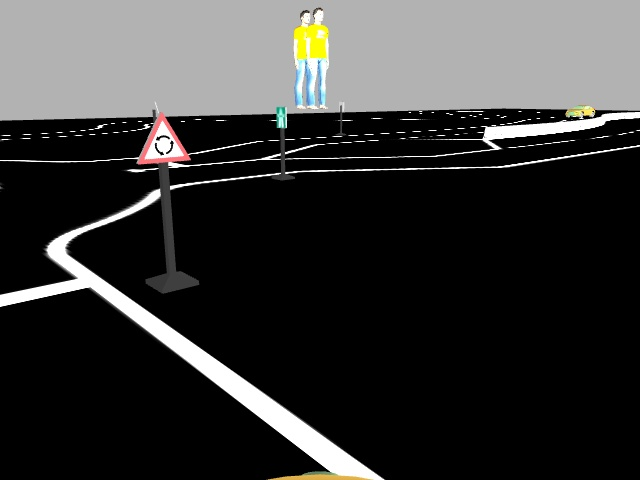HighwayEntrance: (272, 103, 289, 126)
Roundabout: (133, 112, 191, 164)
